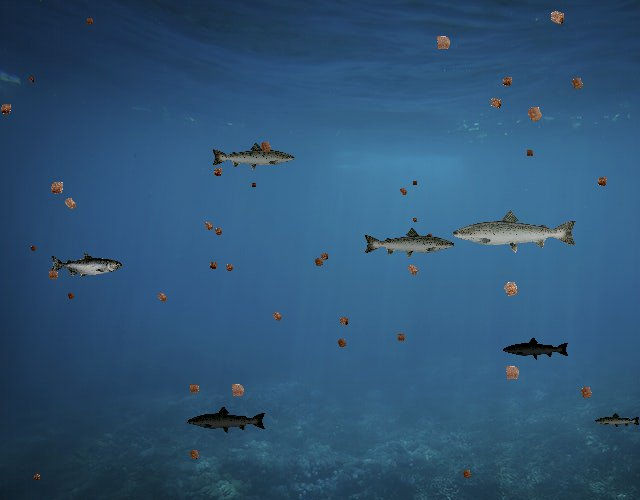Fish: (450, 208, 579, 254), (363, 227, 457, 261), (210, 141, 296, 172), (186, 406, 267, 435), (49, 253, 122, 279), (502, 336, 570, 361), (594, 413, 640, 430)
Pellet: (58, 191, 83, 216), (574, 380, 598, 404), (457, 465, 476, 484), (30, 470, 44, 484), (25, 74, 37, 86)
